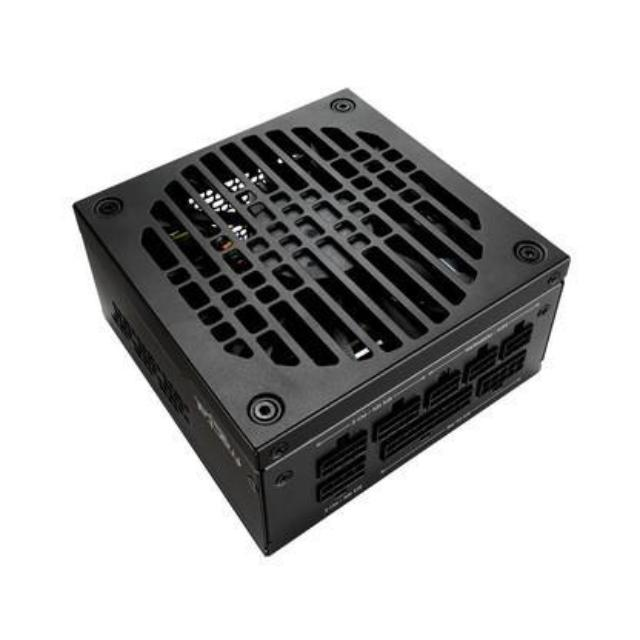PSU: (72, 82, 578, 586)
